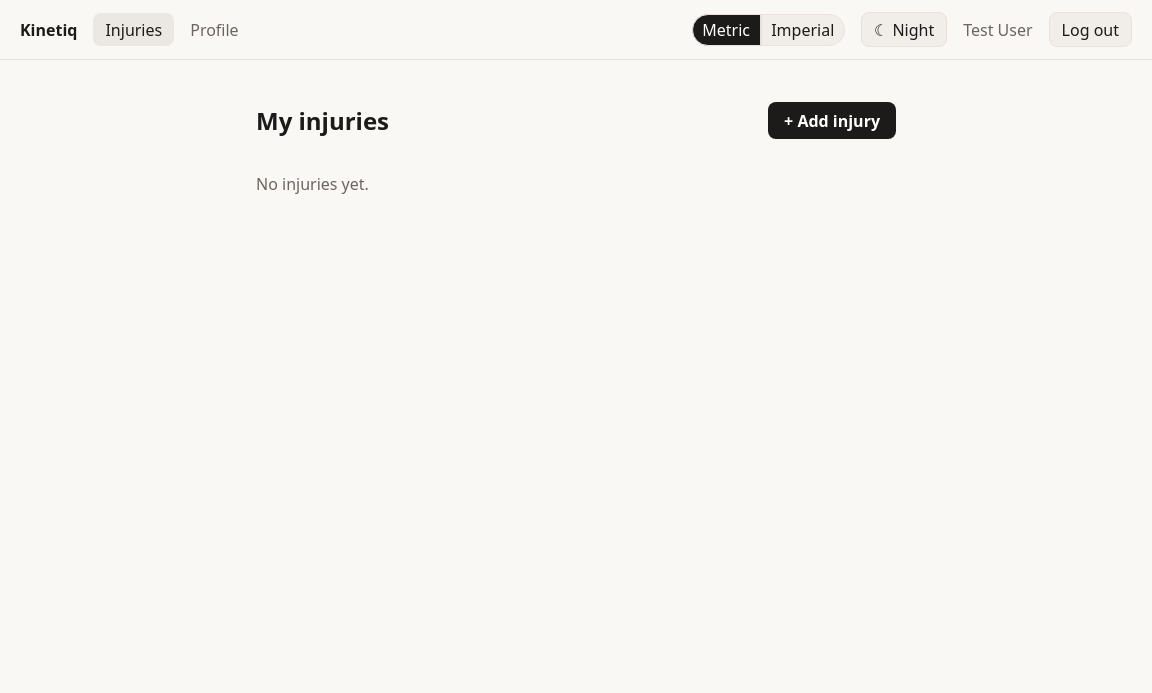
Test: App › switches pages with the tabs and highlights the active one
expect the heading "My injuries" is shown: met, box [256,104,389,137]
Click the link "Profile" at (214, 30), box [190,19,239,41]
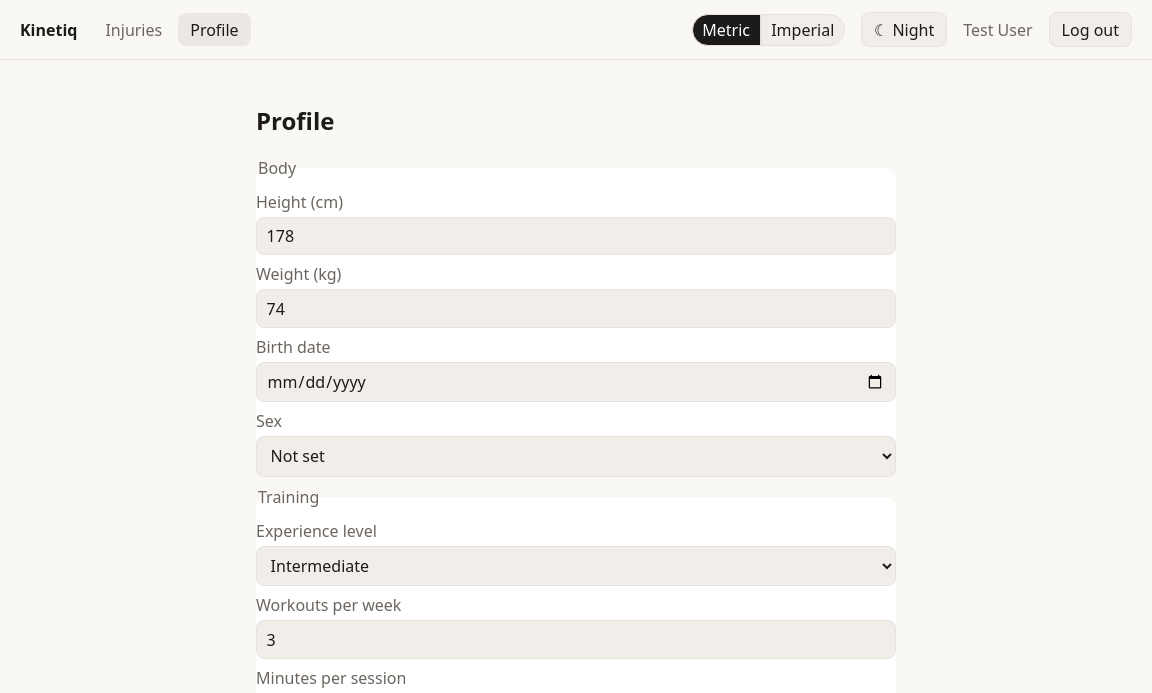
expect the heading "Profile" is shown: met, box [256,104,334,137]
